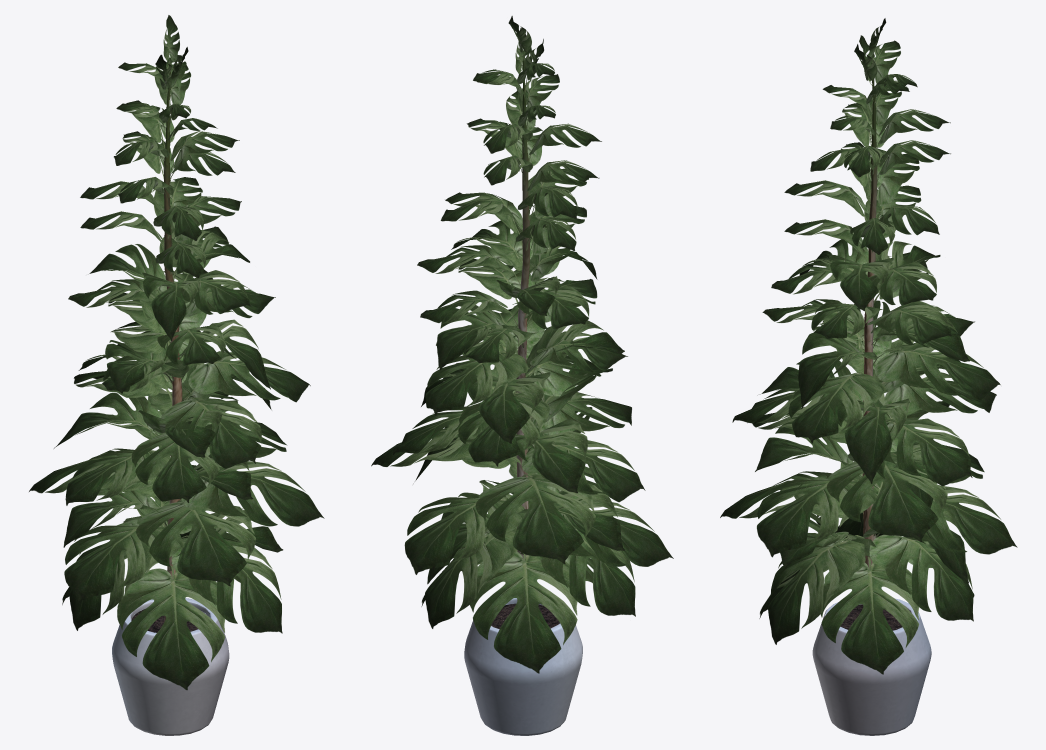
File: potted_plant.glb
The picture shows the model from 3 angles, left to right: view 1: azimuth 30°, elevation 25°; view 2: azimuth 150°, elevation 25°; view 3: azimuth 270°, elevation 25°; orthographic projection.
Parts seen in each view (by area): view 1: leaves3, base3; view 2: leaves3, base3; view 3: leaves3, base3.
Part boxes in pixels (x1,y1,x2,y2): leaves3: (29,15,324,690); base3: (112,71,229,735); leaves3: (371,16,673,673); base3: (464,59,582,735); leaves3: (720,18,1017,674); base3: (812,63,931,735).
Size of the model in its own units: 0.9813 by 2.39 by 0.9845.
2 materials, 2 textured.
